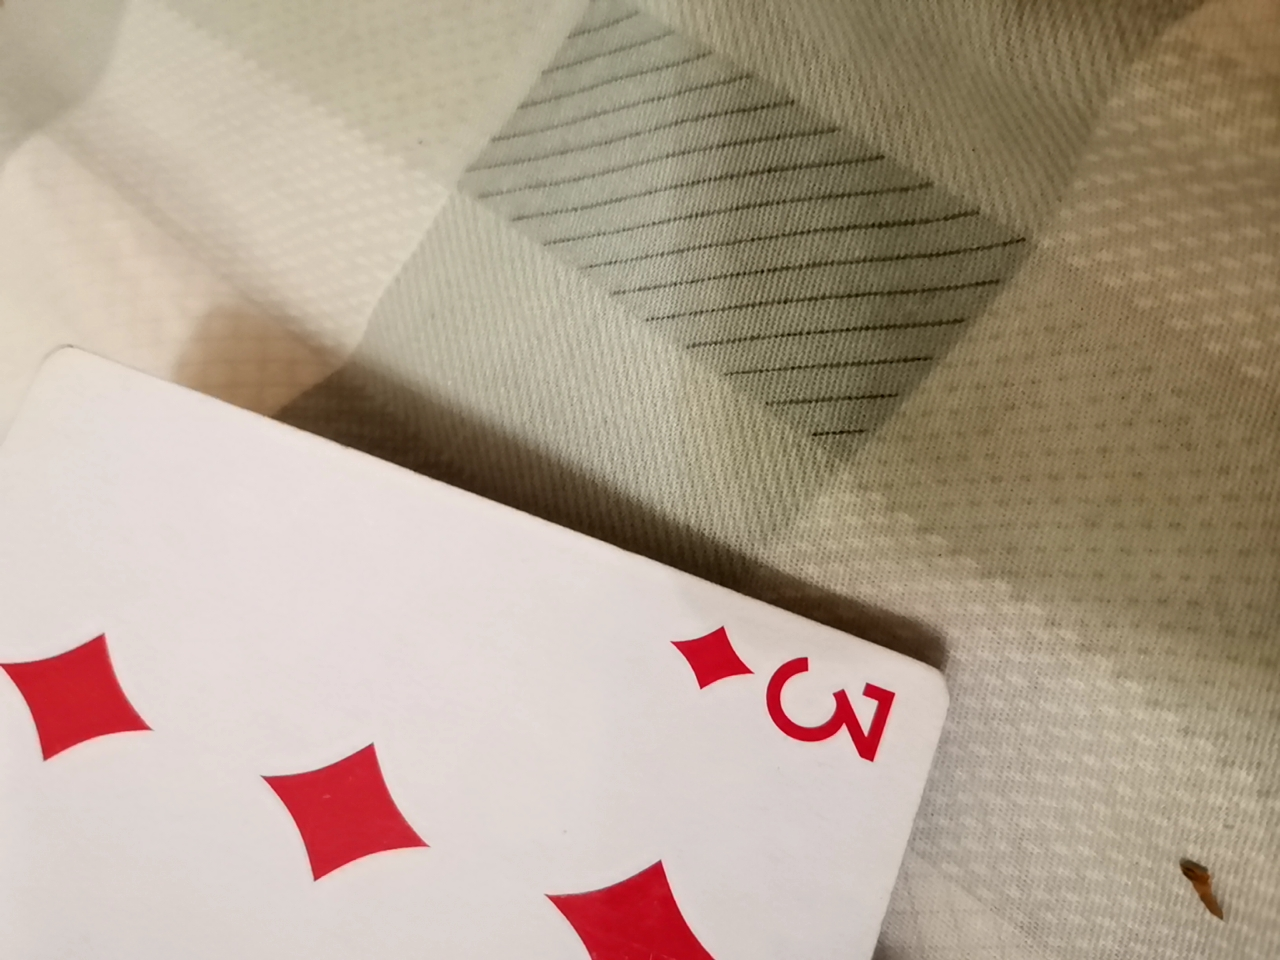fk 3: (4, 333, 980, 948)
